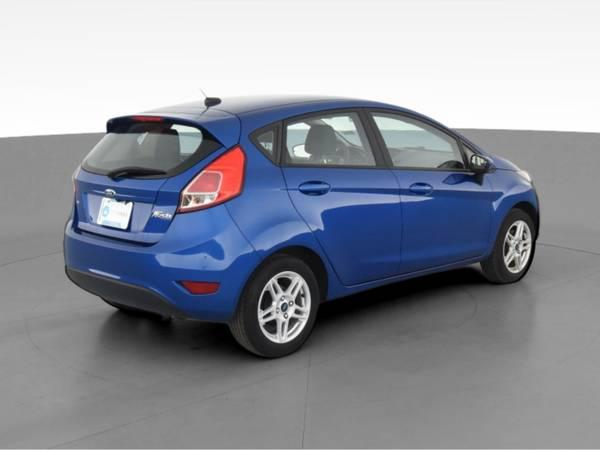Front_Fender: (488, 168, 542, 253)
Front_Right_Door: (391, 166, 492, 278)
Front_Right_Window: (369, 108, 487, 169)
Rear_Bumper: (62, 202, 262, 323)
Rear_Fender: (225, 121, 310, 261)
Rear_Right_Door: (281, 165, 403, 298)
Rear_Right_Window: (283, 107, 391, 168)
Rear_Windshield: (82, 117, 222, 176)
Right_Taillight: (175, 143, 245, 211)
Roof: (104, 92, 493, 160)
Tailgate: (71, 143, 228, 240)
Wheel: (240, 258, 326, 363), (493, 210, 540, 284)
